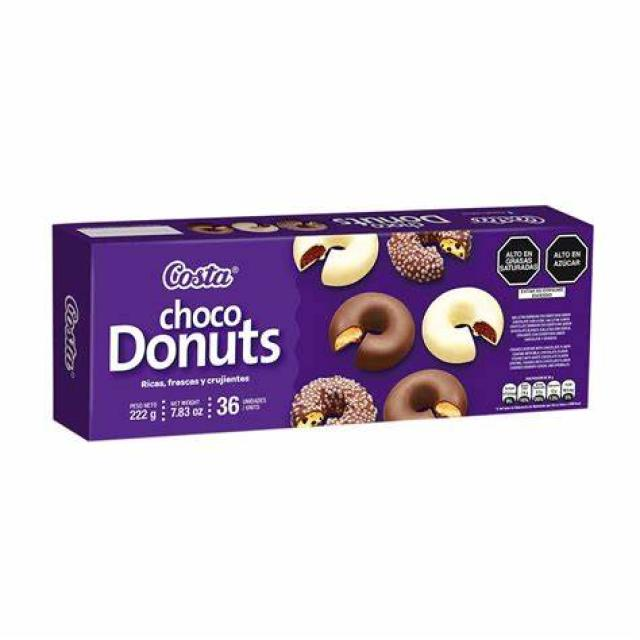Caja: (42, 199, 614, 451)
